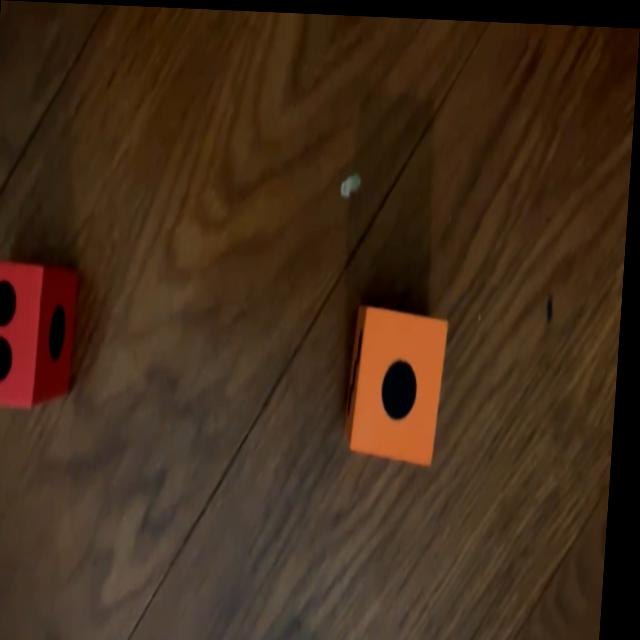cube: (0, 264, 82, 408)
